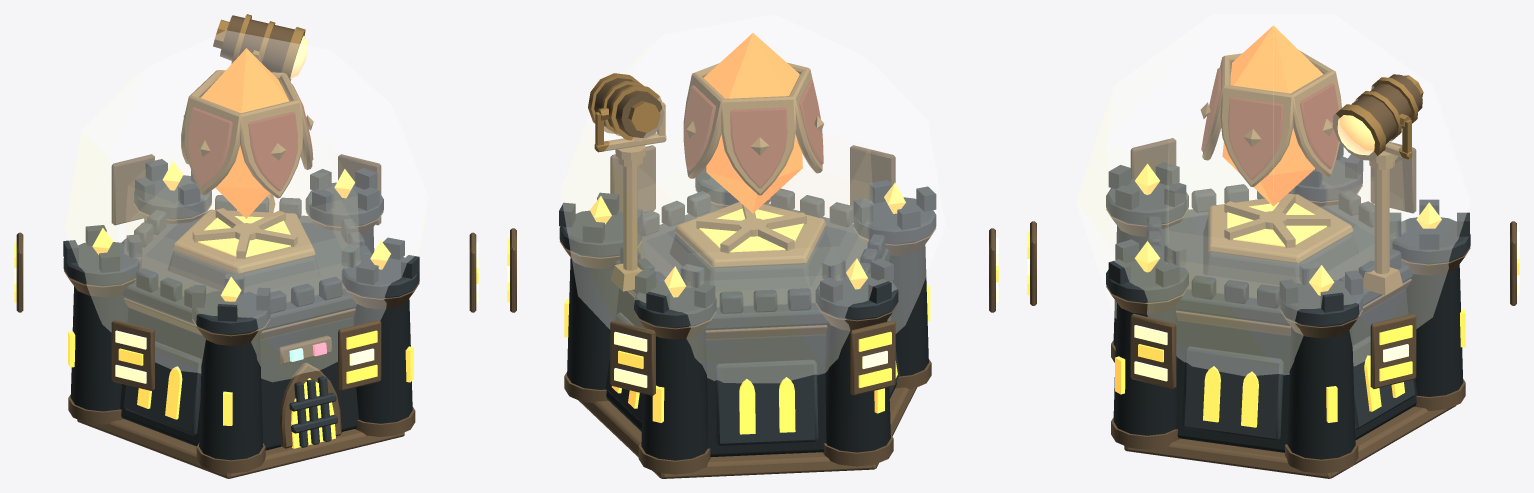
The model's file is firewall.glb.
3 views of the same model, side by side, from view 1: azimuth 30°, elevation 25°; view 2: azimuth 150°, elevation 25°; view 3: azimuth 270°, elevation 25° (orthographic). The views are drawn at different scales.
Visible parts, largest first — view 1: lattice, body_metal_graphite, body_metal_dark, body_metal_brass, state_slates, body_glow_ember, body_metal_brass_bright, ward_shield_fields, ward_shield_rims, ward, sentry_yoke_metal_brass, sentry_yoke_metal_brass_bright (+2 smaller); view 2: lattice, body_metal_graphite, body_metal_dark, body_metal_brass, state_slates, ward_shield_fields, ward, body_glow_ember, body_metal_brass_bright, ward_shield_rims, sentry_yoke_metal_brass_bright, sentry_mast (+3 smaller); view 3: lattice, body_metal_graphite, body_metal_dark, body_metal_brass, state_slates, body_glow_ember, ward_shield_fields, body_metal_brass_bright, ward, ward_shield_rims, sentry_yoke_metal_brass_bright, sentry_mast (+4 smaller).
Boxes of the visible parts, x1,y1,x2,y2 form: lattice: (65, 30, 427, 381); body_metal_graphite: (63, 159, 419, 447); body_metal_dark: (70, 220, 412, 460); body_metal_brass: (64, 203, 419, 478); state_slates: (16, 154, 476, 390); body_glow_ember: (68, 161, 413, 448); body_metal_brass_bright: (172, 208, 315, 274); ward_shield_fields: (188, 84, 313, 191); ward_shield_rims: (181, 70, 313, 198); ward: (201, 48, 289, 218); sentry_yoke_metal_brass: (220, 15, 294, 72); sentry_yoke_metal_brass_bright: (213, 14, 305, 80); lattice: (561, 14, 944, 382); body_metal_graphite: (559, 166, 936, 445); body_metal_dark: (567, 245, 928, 460); body_metal_brass: (559, 189, 936, 478); state_slates: (510, 145, 995, 395); ward_shield_fields: (684, 80, 823, 188); ward: (704, 33, 802, 213); body_glow_ember: (564, 183, 930, 434); body_metal_brass_bright: (675, 201, 825, 268); ward_shield_rims: (683, 62, 823, 195); sentry_yoke_metal_brass_bright: (588, 73, 666, 160); sentry_mast: (610, 157, 642, 291); lattice: (1076, 14, 1470, 376); body_metal_graphite: (1106, 143, 1470, 440); body_metal_dark: (1113, 225, 1463, 459); body_metal_brass: (1106, 185, 1470, 478); state_slates: (1030, 138, 1516, 388); body_glow_ember: (1115, 163, 1465, 427); ward_shield_fields: (1201, 67, 1338, 179); body_metal_brass_bright: (1208, 193, 1353, 263); ward: (1222, 25, 1323, 206); ward_shield_rims: (1200, 50, 1341, 186); sentry_yoke_metal_brass_bright: (1332, 75, 1423, 163); sentry_mast: (1363, 161, 1402, 295).
Size of the model in its own units: 1.56 by 1.48 by 1.72.
